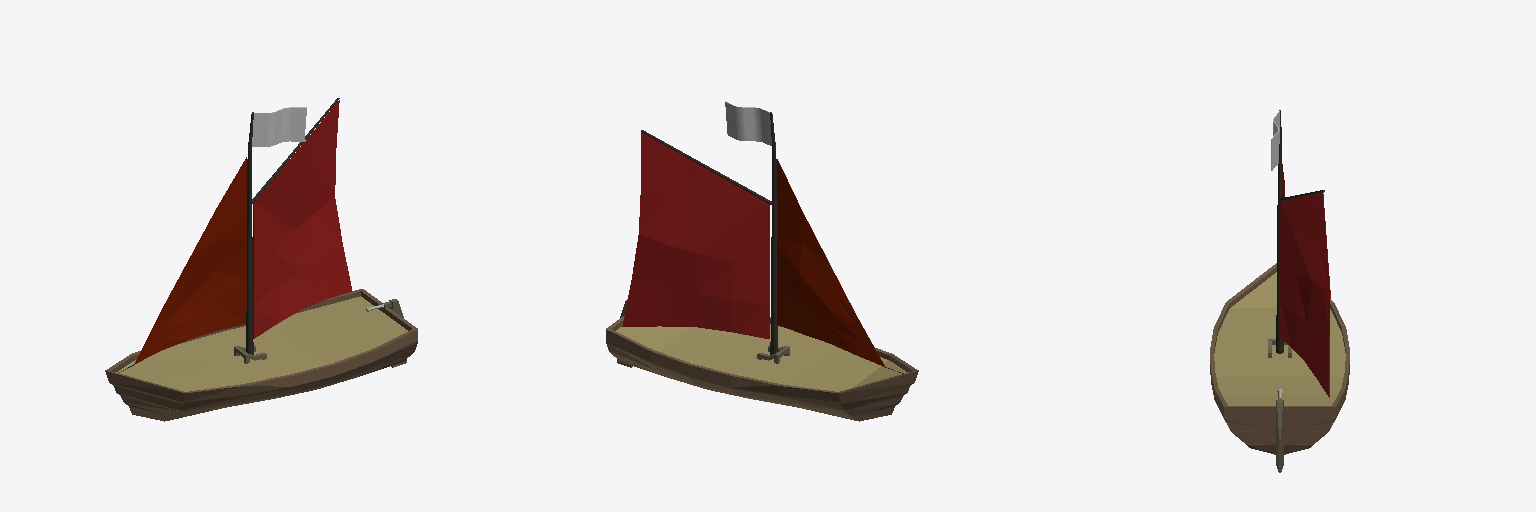
The picture shows the model from 3 angles: view 1: azimuth 30°, elevation 25°; view 2: azimuth 150°, elevation 25°; view 3: azimuth 270°, elevation 25°; orthographic projection.
Parts seen in each view (by area): view 1: Sail, Body, Mast; view 2: Sail, Body, Mast; view 3: Body, Sail, Mast.
Part boxes in pixels (x1,y1,x2,y2): Sail: (119, 100, 351, 372); Body: (105, 289, 417, 421); Mast: (246, 98, 339, 354); Sail: (622, 132, 903, 373); Body: (606, 299, 918, 421); Mast: (641, 101, 777, 354); Body: (1210, 263, 1349, 472); Sail: (1280, 164, 1330, 397); Mast: (1271, 110, 1324, 353).
Size of the model in its own units: 311 by 284 by 125.
Materials: 1 (1 with a texture image).